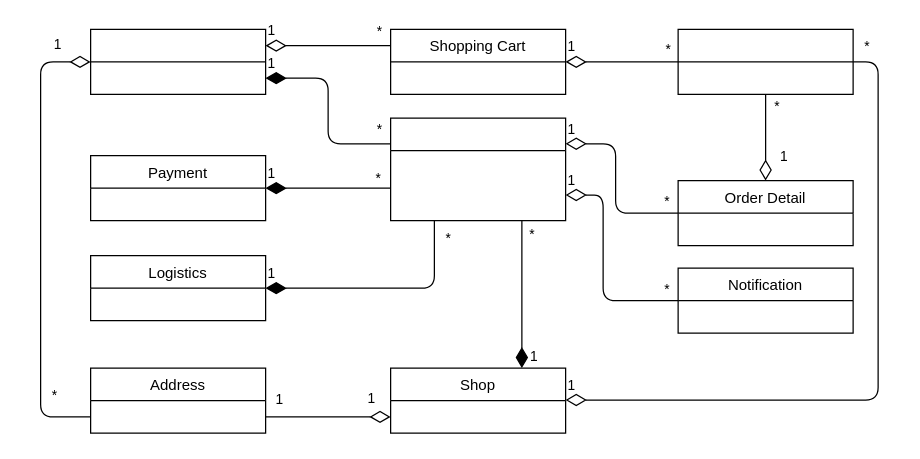
Some shapes in this 920 by 459 pixel diagram are drawn without their labels. The shapes that lost their labels are listed below. From the top down, each one's centre as x and y in pixels, then its label:
At (x=177, y=61): "Customer".
At (x=765, y=61): "Product".
At (x=477, y=169): "Order".
